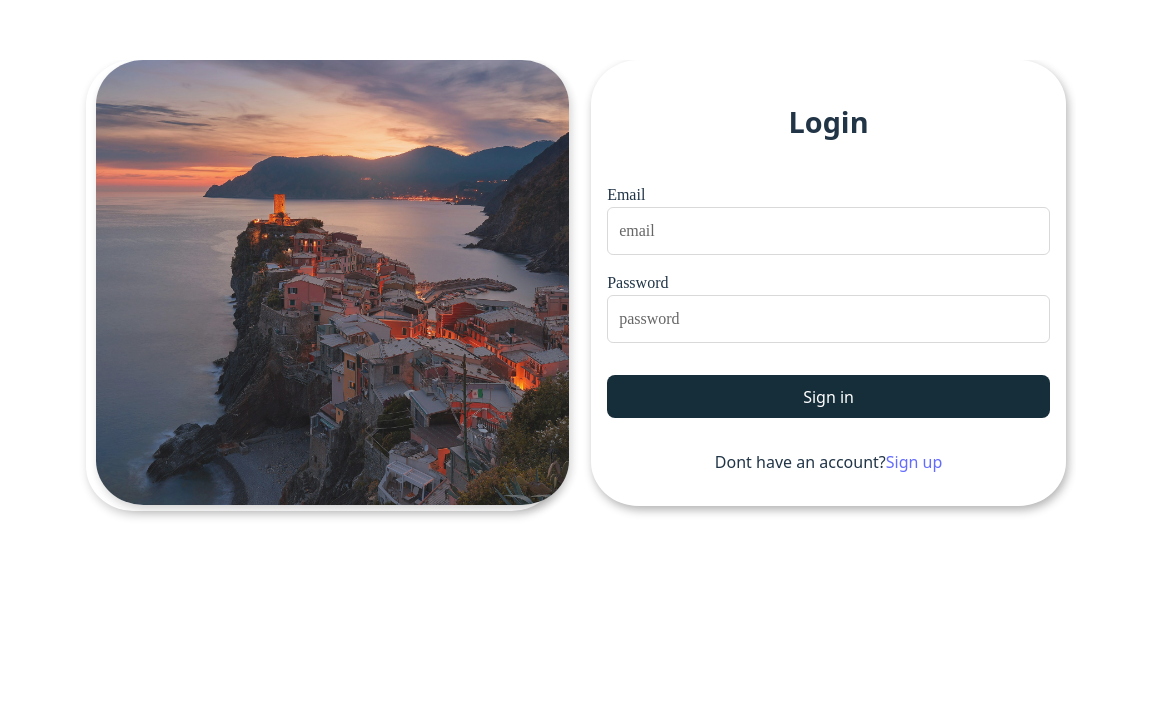
Scenario: Testing AuthForm component › Check the navigate link 'sign up'.
Click the link "Sign up".
click(914, 462)  # box [886,451,942,473]
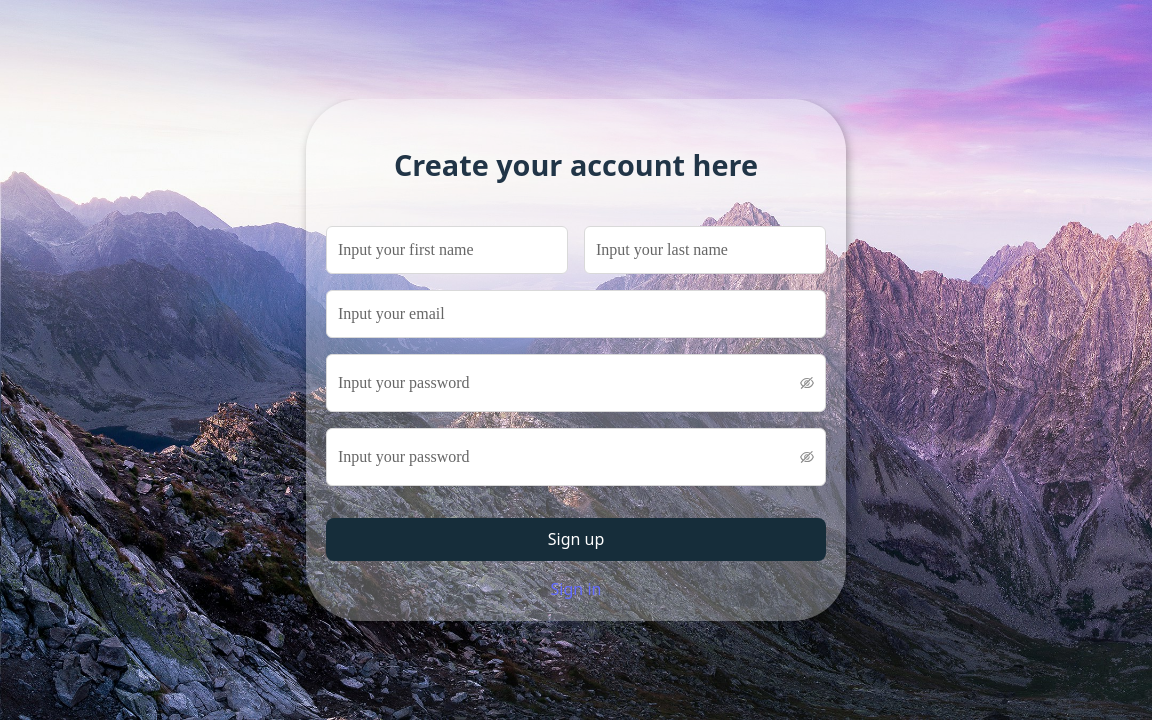
Expected: the heading "Create your account here" is shown, [394,145,758,184]
